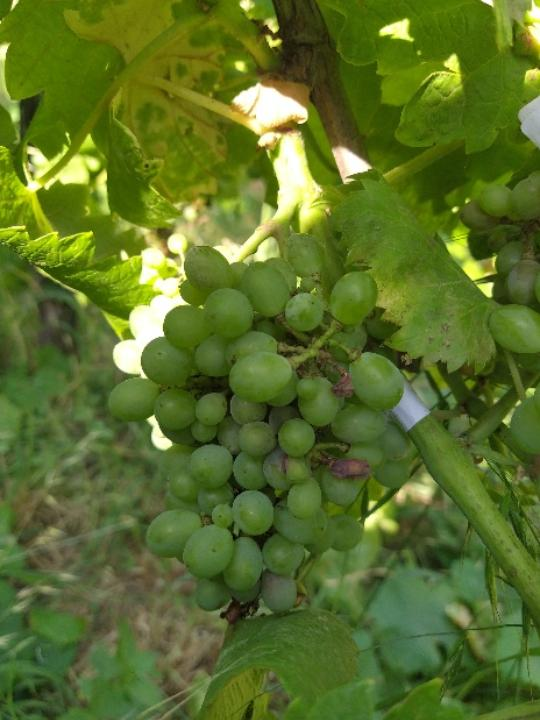grape: (104, 230, 411, 622)
